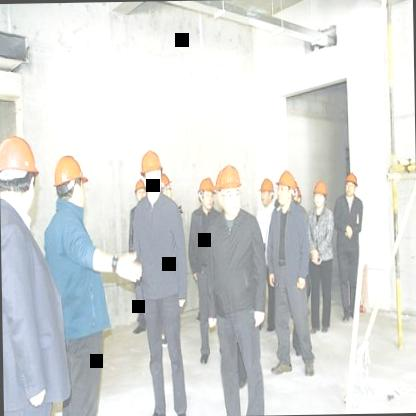helmet: (0, 133, 43, 214), (52, 154, 90, 211), (214, 162, 244, 216), (138, 147, 166, 194), (279, 168, 300, 212), (196, 174, 215, 213), (255, 173, 274, 211), (308, 177, 328, 211), (342, 167, 358, 200), (158, 173, 173, 205), (130, 178, 147, 206)
